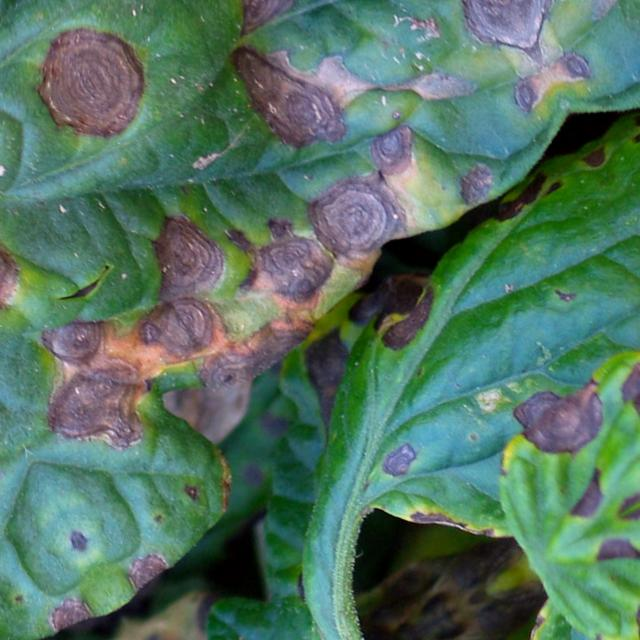Tomato Early blight leaf: (0, 0, 640, 640), (237, 107, 640, 546), (383, 237, 640, 586)
